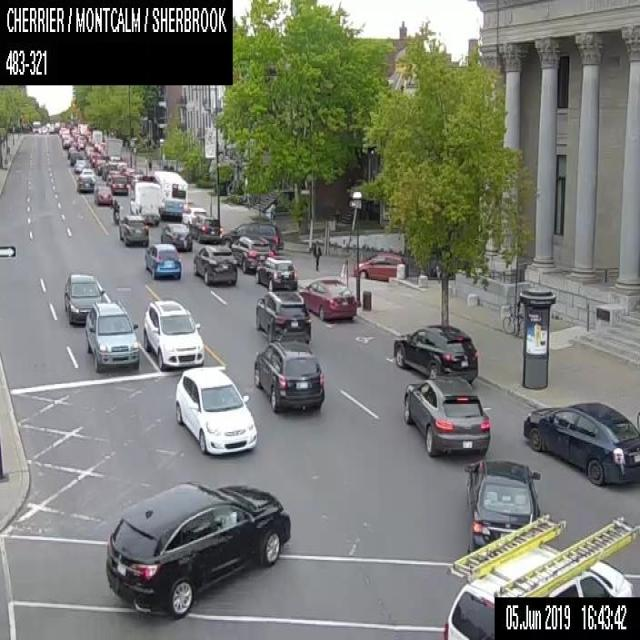bus: (153, 170, 187, 218)
pedestrian: (313, 241, 321, 271), (146, 155, 152, 173), (162, 160, 168, 171), (168, 163, 174, 170)
vehicle: (104, 480, 291, 617), (440, 512, 637, 638), (522, 400, 639, 485), (174, 366, 257, 454), (402, 374, 490, 456), (464, 458, 540, 552), (393, 323, 477, 384), (254, 340, 324, 411), (142, 299, 204, 369), (84, 300, 139, 372), (254, 291, 310, 343), (299, 278, 355, 320), (63, 273, 104, 324), (221, 222, 282, 254), (193, 244, 236, 284), (230, 235, 272, 272), (352, 252, 408, 279), (255, 256, 297, 289), (129, 181, 160, 224), (144, 243, 181, 277), (118, 214, 148, 245), (188, 214, 220, 242), (160, 222, 191, 250), (109, 173, 127, 194), (104, 138, 121, 160), (94, 185, 112, 205), (75, 176, 93, 192), (78, 168, 94, 184), (105, 168, 120, 185), (102, 163, 116, 180), (73, 157, 86, 172), (111, 199, 119, 223), (91, 129, 102, 145), (70, 151, 82, 165), (95, 161, 105, 174), (61, 135, 70, 148), (91, 154, 100, 166), (32, 120, 40, 132), (67, 146, 74, 158)
